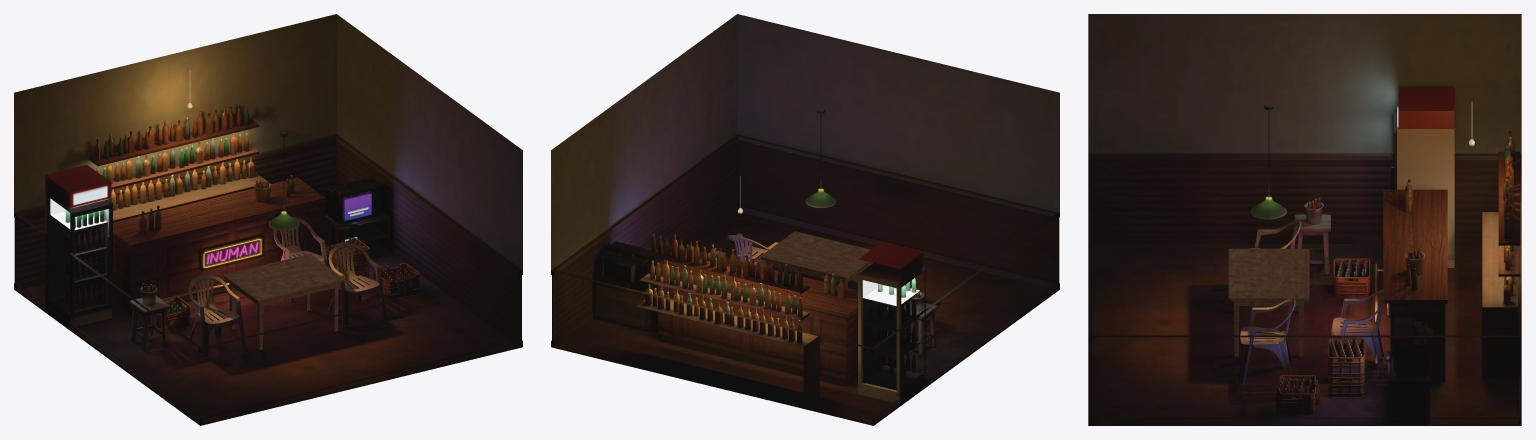
Rendered from dive-bar.glb.
3 views of the same model, side by side, from view 1: azimuth 30°, elevation 25°; view 2: azimuth 150°, elevation 25°; view 3: azimuth 270°, elevation 25° (orthographic). The views are drawn at different scales.
Visible parts, largest first — view 1: Background, Table; view 2: Background, Table; view 3: Background, Table.
Boxes of the visible parts, <box> form: Background: <box>14,14,522,425</box>; Table: <box>224,254,343,349</box>; Background: <box>551,14,1059,425</box>; Table: <box>761,231,873,287</box>; Background: <box>1088,14,1521,425</box>; Table: <box>1228,248,1309,356</box>.
Bounding box in the file's own units: 4.8 × 2.8 × 4.8.
Materials: 2 (2 with a texture image).
